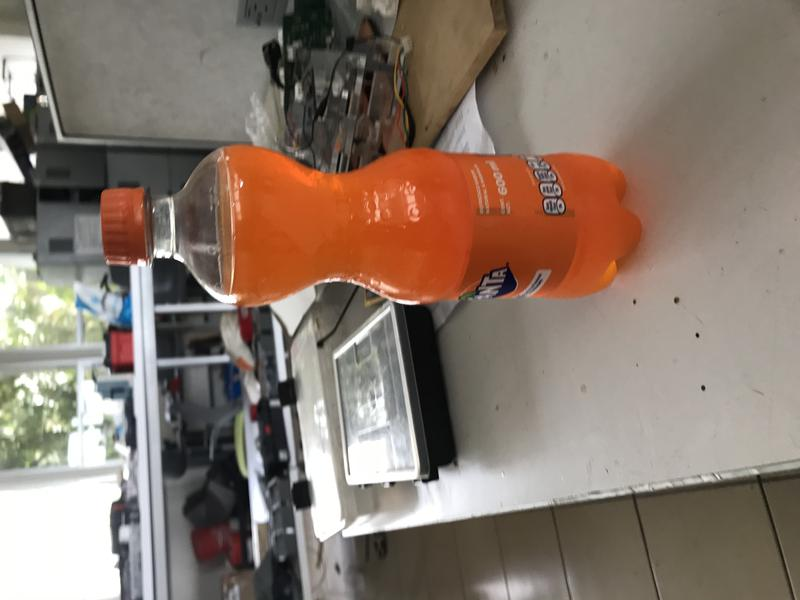fanta: (100, 143, 644, 311)
